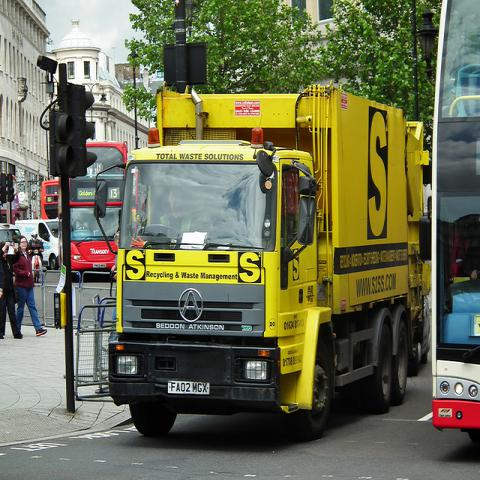bus: (431, 1, 479, 441), (70, 141, 127, 273), (40, 179, 58, 219)
car: (14, 218, 58, 270), (0, 223, 24, 260)
motorcycle: (28, 249, 44, 283)
truck: (106, 91, 430, 443)
